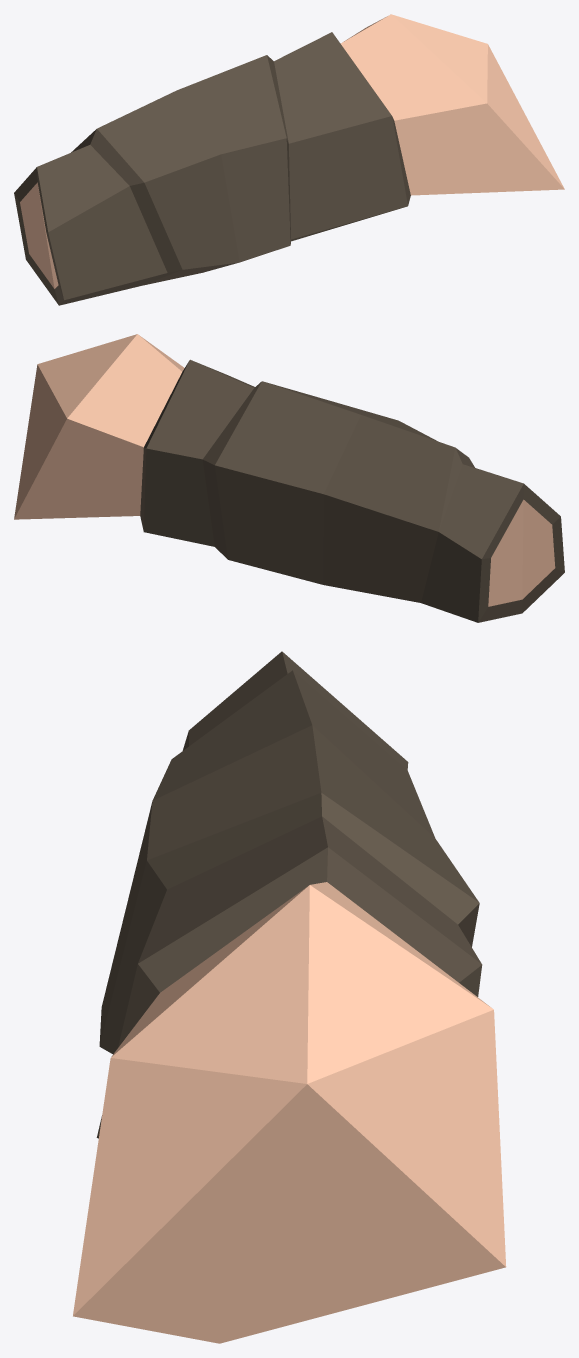
The model's file is Chr_ArmUpperRight_Female_11_Static.fbx.
3 renders of one model, top to bottom at view 1: azimuth 30°, elevation 25°; view 2: azimuth 150°, elevation 25°; view 3: azimuth 270°, elevation 25°, orthographic. The views are drawn at different scales.
Parts seen in each view (by area): view 1: Chr_ArmUpperRight_Female_11_Static; view 2: Chr_ArmUpperRight_Female_11_Static; view 3: Chr_ArmUpperRight_Female_11_Static.
Part boxes in pixels (box(x1,y1,x2,y2)): Chr_ArmUpperRight_Female_11_Static: box(14, 14, 564, 305); Chr_ArmUpperRight_Female_11_Static: box(14, 334, 564, 622); Chr_ArmUpperRight_Female_11_Static: box(73, 651, 506, 1343).
Size of the model in its own units: 0.3535 by 0.1376 by 0.136.
